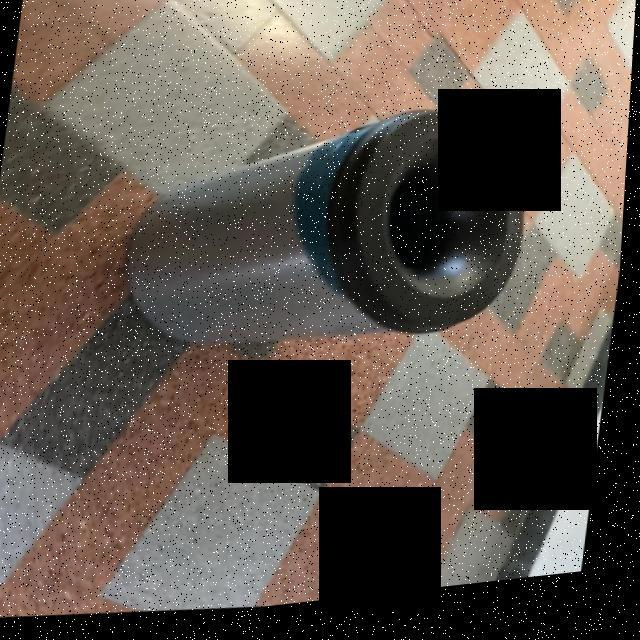bin: (102, 80, 565, 412)
